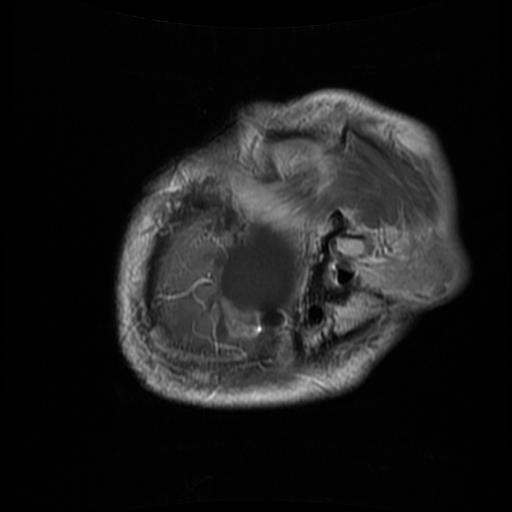glioma: (214, 227, 299, 329)
